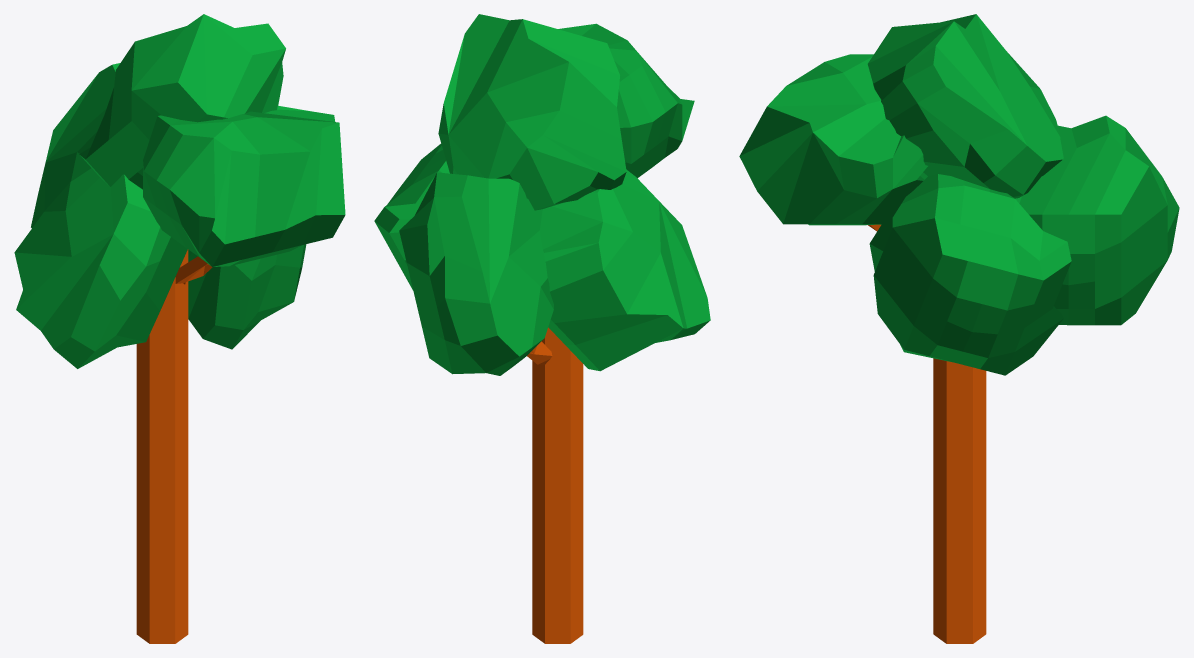
File: tree3.FBX
3 views of the same model, side by side, from view 1: azimuth 30°, elevation 25°; view 2: azimuth 150°, elevation 25°; view 3: azimuth 270°, elevation 25° (orthographic). The views are drawn at different scales.
Visible parts, largest first — view 1: 对象001, 对象004, 对象003, Gengon002, 对象005, 对象002, Box003; view 2: 对象003, 对象002, 对象004, Gengon002, 对象001, 对象005; view 3: 对象005, 对象003, 对象001, 对象002, Gengon002.
Boxes of the visible parts, x1,y1,x2,y2 form: 对象001: [143, 105, 345, 266]; 对象004: [14, 168, 187, 368]; 对象003: [79, 14, 285, 189]; Gengon002: [136, 249, 188, 643]; 对象005: [188, 244, 306, 349]; 对象002: [31, 63, 120, 227]; Box003: [175, 256, 212, 284]; 对象003: [438, 14, 626, 210]; 对象002: [399, 172, 553, 375]; 对象004: [540, 169, 710, 371]; Gengon002: [532, 327, 583, 643]; 对象001: [558, 23, 694, 178]; 对象005: [374, 143, 449, 290]; 对象005: [869, 174, 1071, 375]; 对象003: [867, 14, 1063, 198]; 对象001: [739, 54, 927, 225]; 对象002: [1015, 115, 1179, 325]; Gengon002: [933, 358, 986, 643].
Size of the model in its own units: 65.73 by 134 by 84.58.
